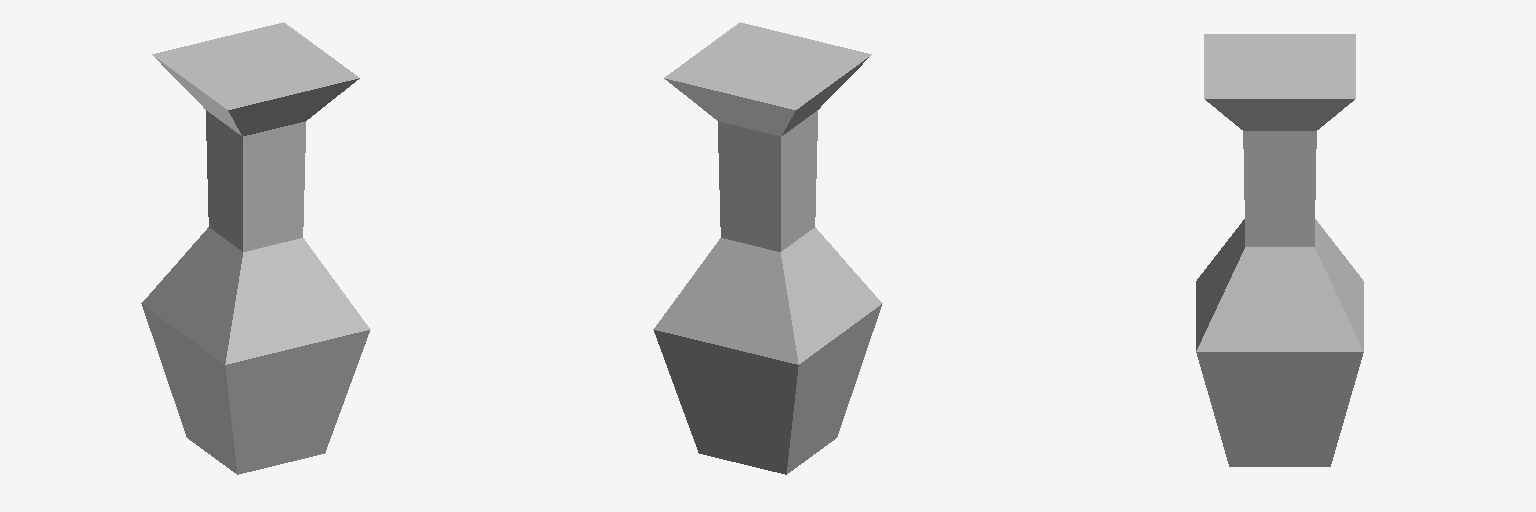
The model's file is Overhang2.obj.
3 renders of one model, left to right at view 1: azimuth 30°, elevation 25°; view 2: azimuth 150°, elevation 25°; view 3: azimuth 270°, elevation 25°, orthographic.
Visible parts, largest first — view 1: Overhang2; view 2: Overhang2; view 3: Overhang2.
Boxes of the visible parts, <box> form: Overhang2: <box>141,22,370,474</box>; Overhang2: <box>653,22,882,474</box>; Overhang2: <box>1196,34,1363,466</box>.
Bounding box in the file's own units: 3.1 × 7.72 × 3.1.